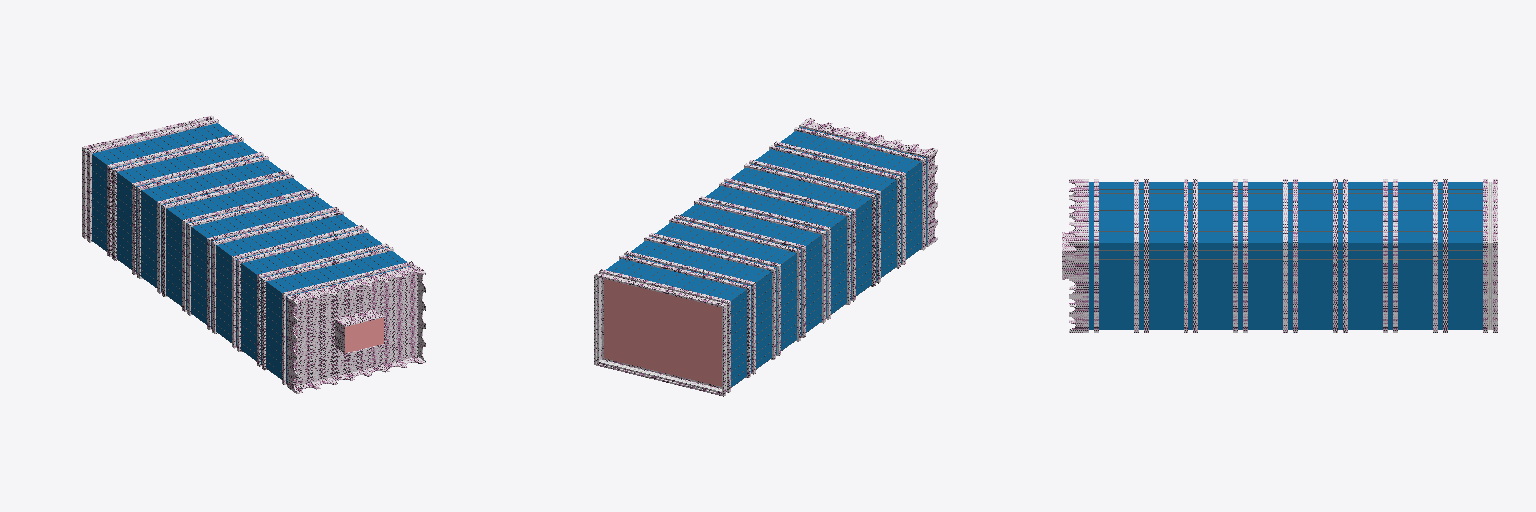
3 renders of one model, left to right at view 1: azimuth 30°, elevation 25°; view 2: azimuth 150°, elevation 25°; view 3: azimuth 270°, elevation 25°, orthographic.
Parts seen in each view (by area): view 1: Glass_01, Wall_05, Wall_01, Frame_01, slab_01, Wall_02; view 2: Glass_01, Wall_01, Wall_05, Slab_1_01, Frame_01, Wall_1_01; view 3: Glass_01, Wall_01, Frame_01, Wall_05, Wall_1_01.
Part boxes in pixels (x1,y1,x2,y2): Glass_01: (92,123,409,382); Wall_05: (85,117,425,393); Wall_01: (82,115,417,387); Frame_01: (91,126,400,379); slab_01: (345,318,383,352); Wall_02: (335,310,381,351); Glass_01: (606,127,926,386); Wall_01: (595,123,930,395); Wall_05: (594,118,937,396); Slab_1_01: (604,279,721,386); Frame_01: (612,132,921,387); Wall_1_01: (599,273,726,391); Glass_01: (1089,182,1482,329); Wall_01: (1084,179,1497,332); Frame_01: (1099,189,1482,259); Wall_05: (1069,179,1083,332); Wall_1_01: (1488,182,1492,329).
Bounding box in the file's own units: 1800 × 1200 × 5238.
Materials: 6 (2 with a texture image).